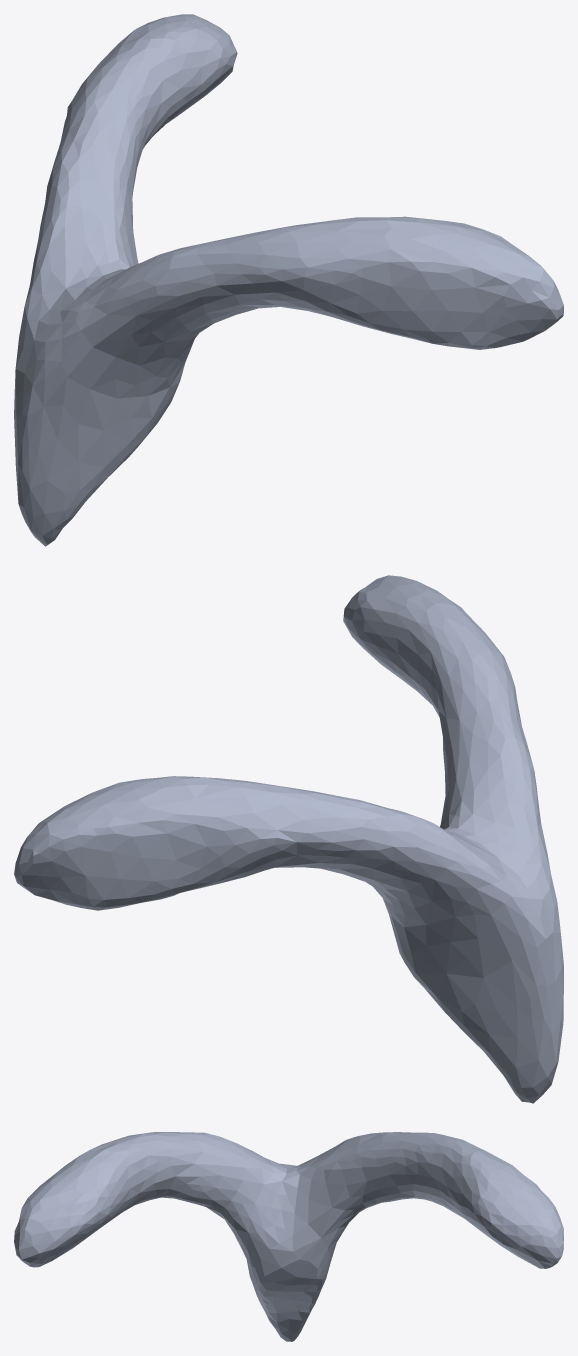
The picture shows the model from 3 angles, top to bottom: view 1: azimuth 30°, elevation 25°; view 2: azimuth 150°, elevation 25°; view 3: azimuth 270°, elevation 25°; orthographic projection. The views are drawn at different scales.
Visible parts, largest first — view 1: 596.obj; view 2: 596.obj; view 3: 596.obj.
Boxes of the visible parts, x1,y1,x2,y2 form: 596.obj: [14, 14, 563, 546]; 596.obj: [14, 575, 563, 1103]; 596.obj: [14, 1132, 563, 1341].
Bounding box in the file's own units: 1801 × 1665 × 3035.
